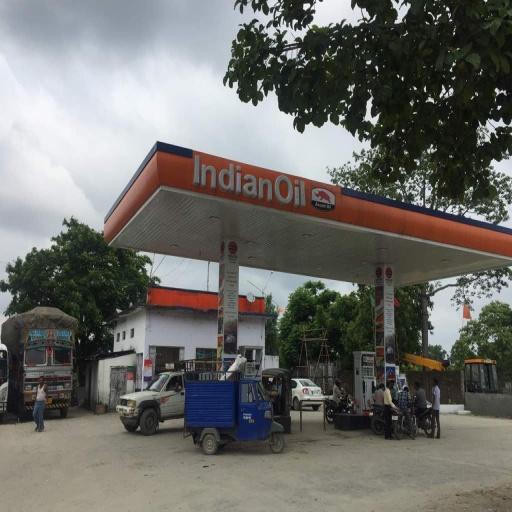roof: (101, 142, 512, 281)
